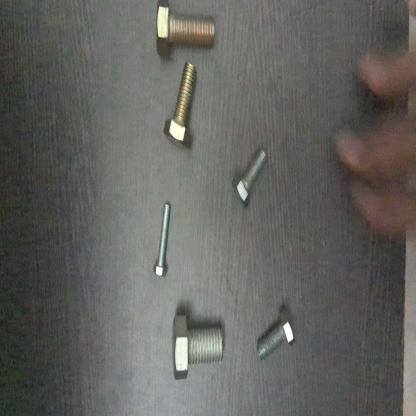Bolts: (145, 0, 219, 59), (171, 307, 228, 379), (160, 61, 201, 157), (249, 303, 300, 366), (234, 140, 272, 212), (150, 192, 174, 283)
